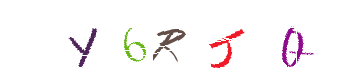6: (131, 0, 211, 80)
J: (164, 0, 244, 80)
Q: (185, 0, 265, 80)
R: (147, 0, 227, 80)
Y: (93, 0, 173, 80)
